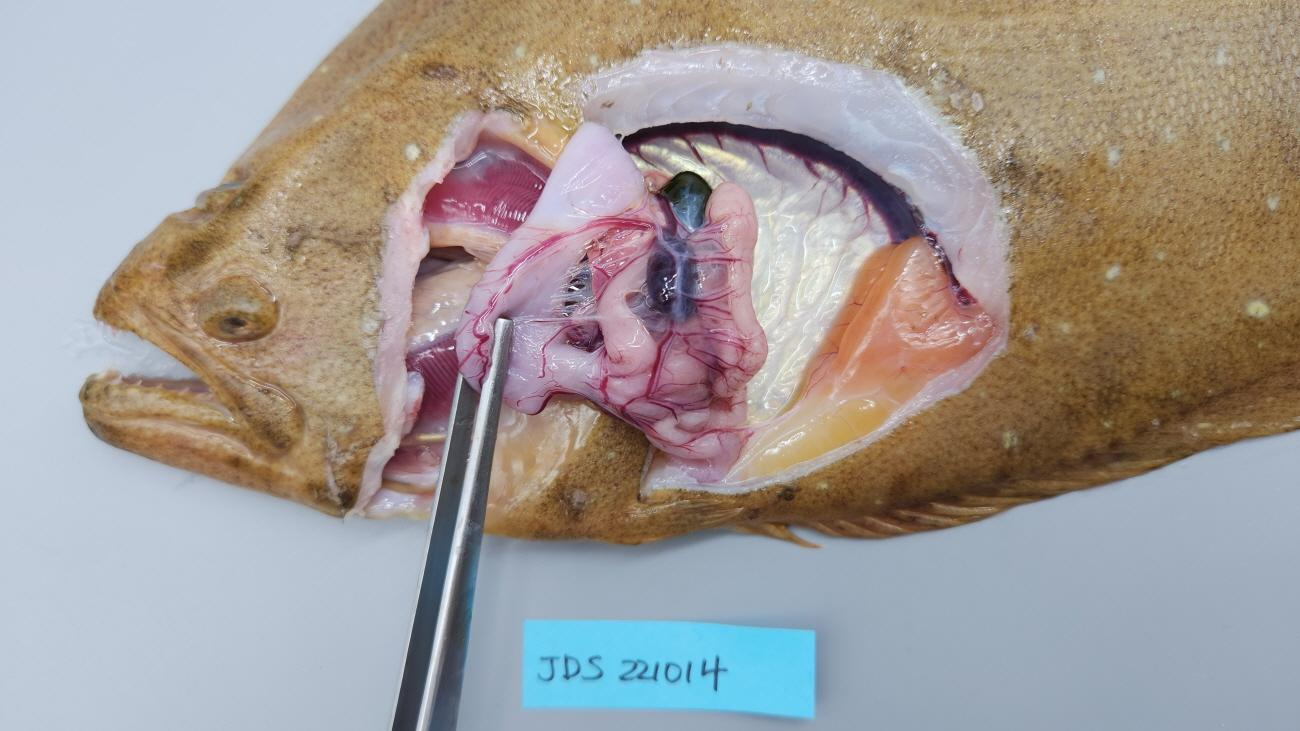POSPN: (647, 240, 696, 318)
